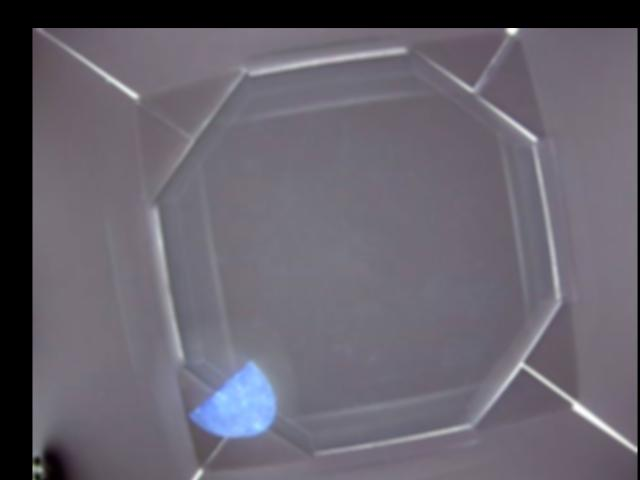Potato: (190, 357, 274, 437)
